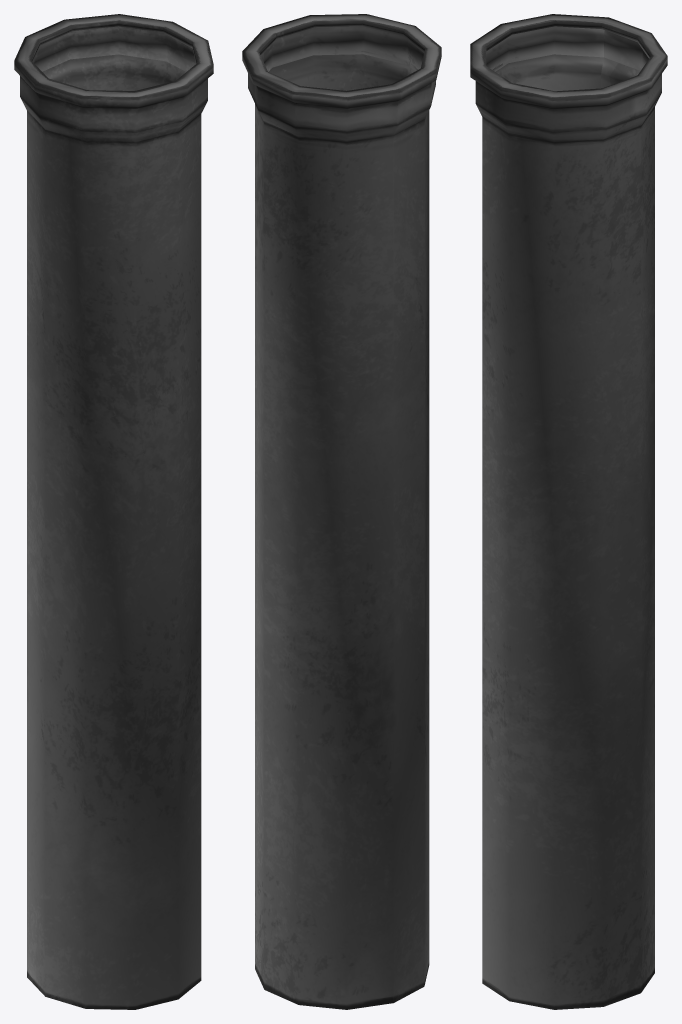
File: Plastic2.fbx
3 views of the same model, side by side, from view 1: azimuth 30°, elevation 25°; view 2: azimuth 150°, elevation 25°; view 3: azimuth 270°, elevation 25° (orthographic).
Parts seen in each view (by area): view 1: pipe.005; view 2: pipe.005; view 3: pipe.005.
Boxes of the visible parts, <box> form: pipe.005: <box>14,14,213,1009</box>; pipe.005: <box>242,14,441,1009</box>; pipe.005: <box>470,14,667,1009</box>.
Bounding box in the file's own units: 3400 × 17237 × 3365.
Materials: 1 (1 with a texture image).
